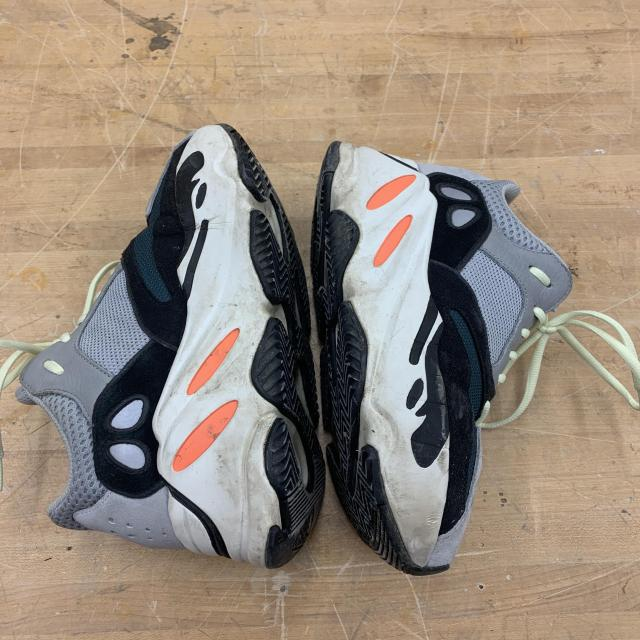shoe: (0, 117, 339, 580), (301, 114, 591, 589)
